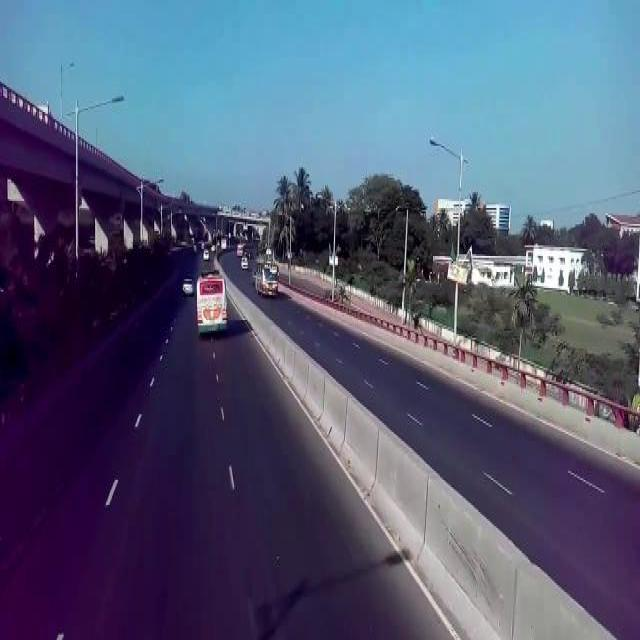bus: (194, 269, 228, 335), (251, 256, 279, 299)
